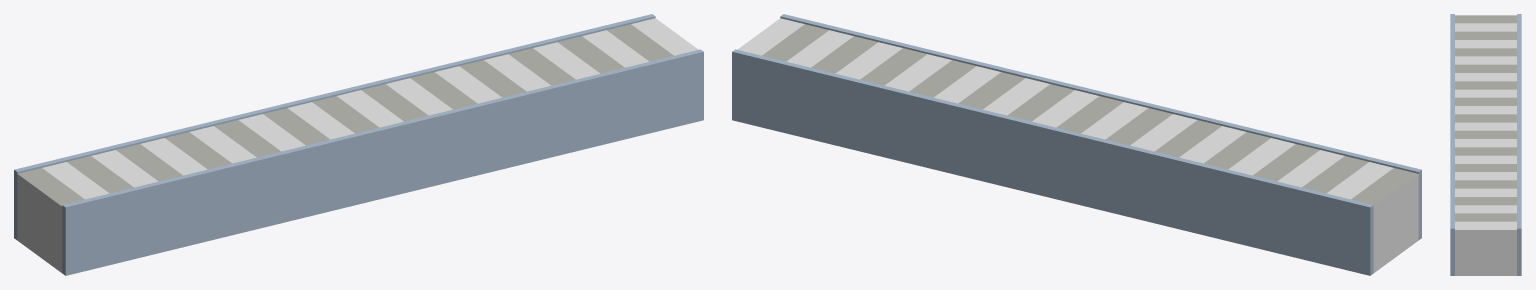
The model's file is road.fbx.
3 views of the same model, side by side, from view 1: azimuth 30°, elevation 25°; view 2: azimuth 150°, elevation 25°; view 3: azimuth 270°, elevation 25° (orthographic). The views are drawn at different scales.
Visible parts, largest first — view 1: Cube; view 2: Cube; view 3: Cube.
Part boxes in pixels (bbox=[...]): Cube: bbox=[14, 14, 703, 275]; Cube: bbox=[732, 14, 1421, 275]; Cube: bbox=[1450, 14, 1521, 275].
Bounding box in the file's own units: 5 × 0.513 × 0.7.
